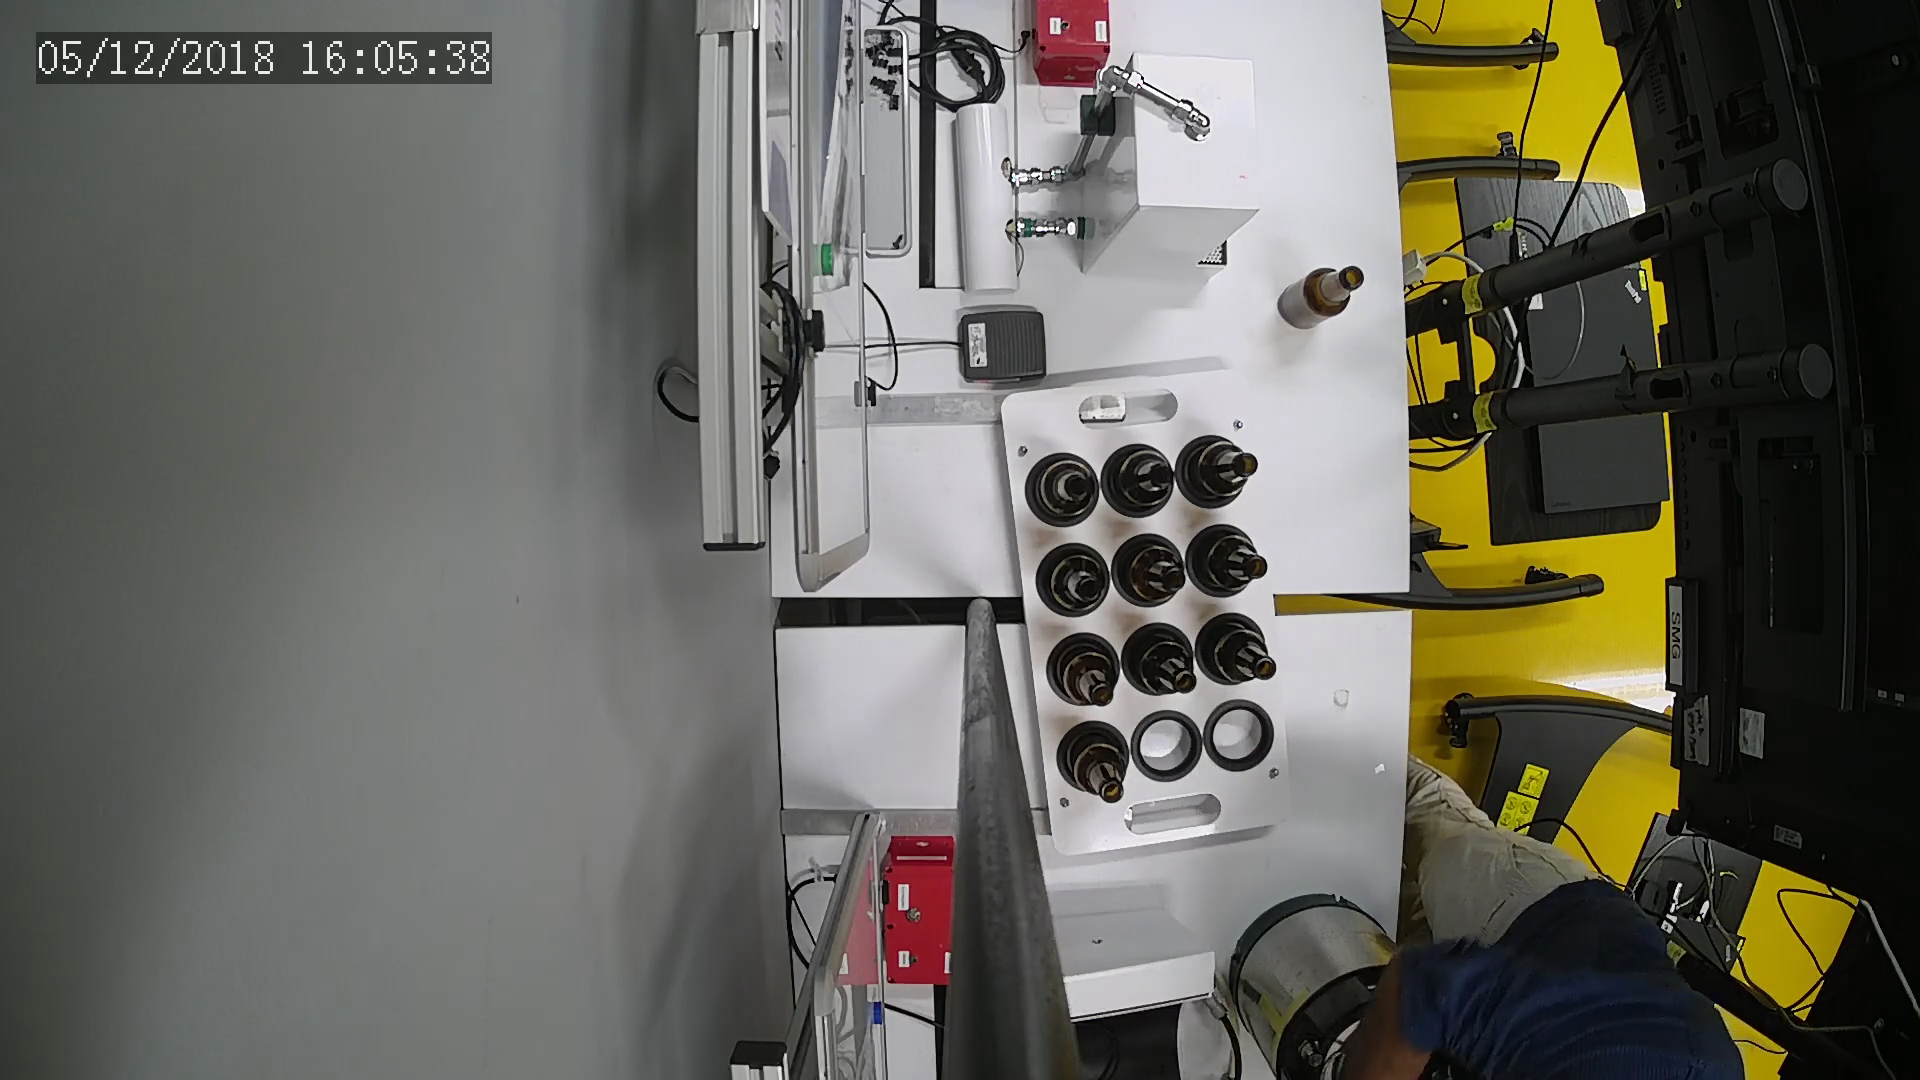filled_bottle: (1048, 716, 1137, 815), (1189, 607, 1283, 695), (1014, 451, 1106, 535), (1043, 626, 1127, 716), (1179, 433, 1265, 516), (1185, 524, 1270, 607), (1097, 440, 1179, 526), (1126, 618, 1203, 705), (1110, 531, 1189, 613), (1031, 541, 1116, 616)
trolley: (993, 357, 1305, 874)
unfilled_bottle: (1278, 262, 1366, 343)
